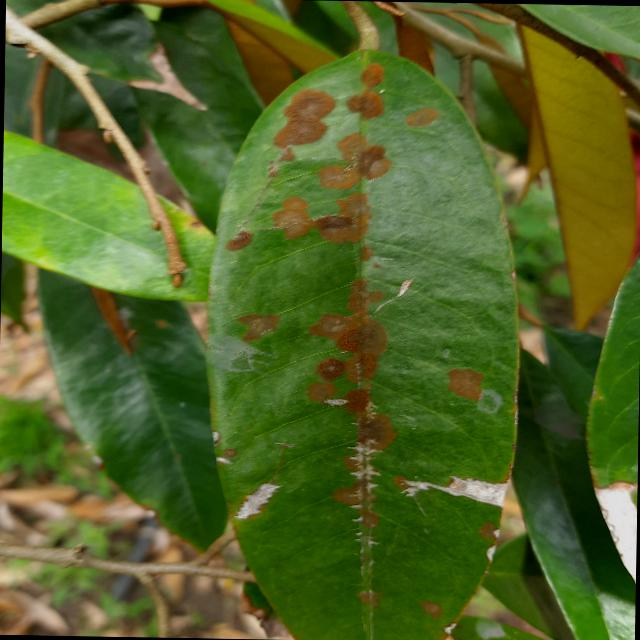Algal Leaf Spot: (191, 34, 534, 639)
